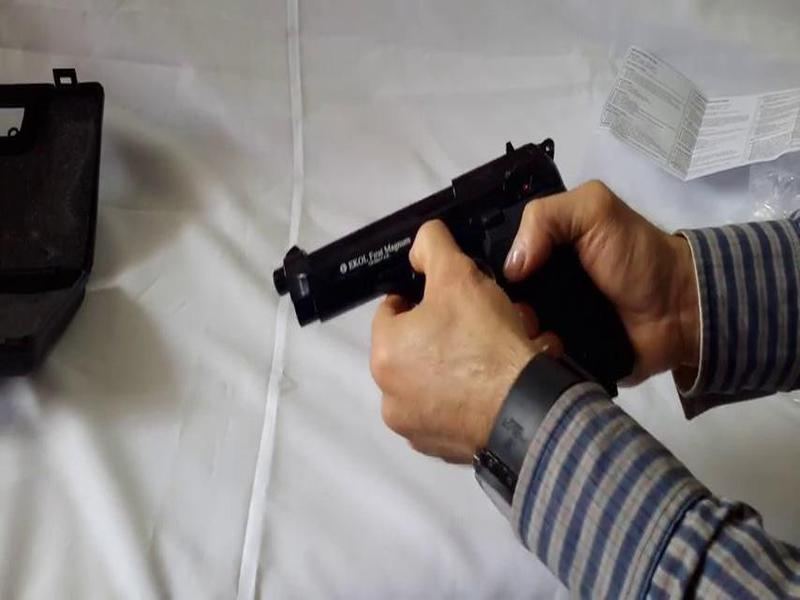Pistola: (266, 144, 658, 400)
